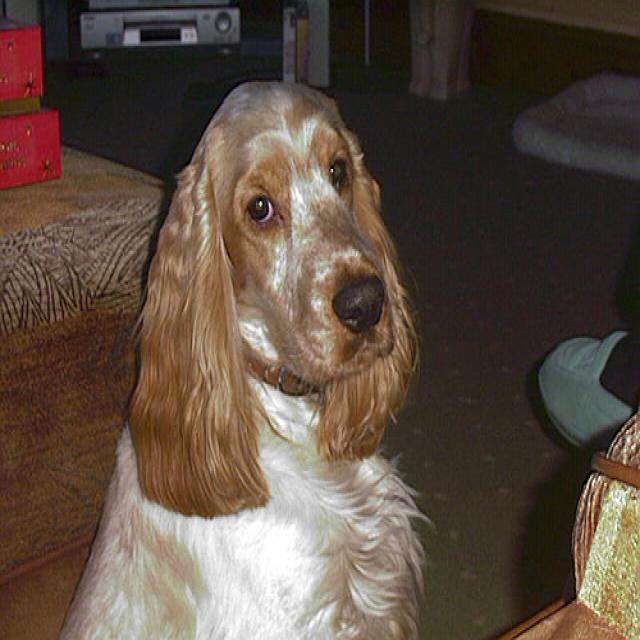dog-english_cocker_spaniel: (47, 56, 422, 637)
